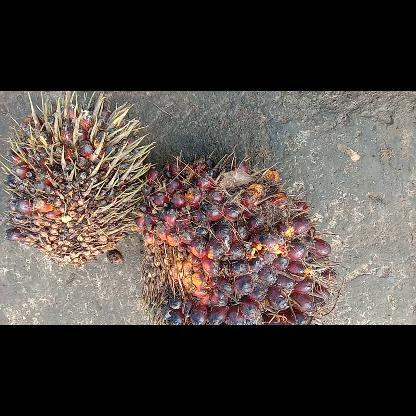Kurang masak: (136, 148, 341, 324)
TBS abnormal: (0, 90, 155, 268)
